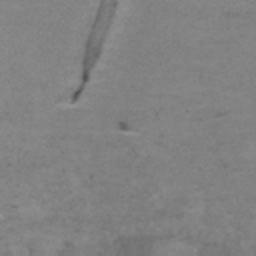Finishing roll printing: (68, 0, 119, 104), (116, 120, 129, 133)
